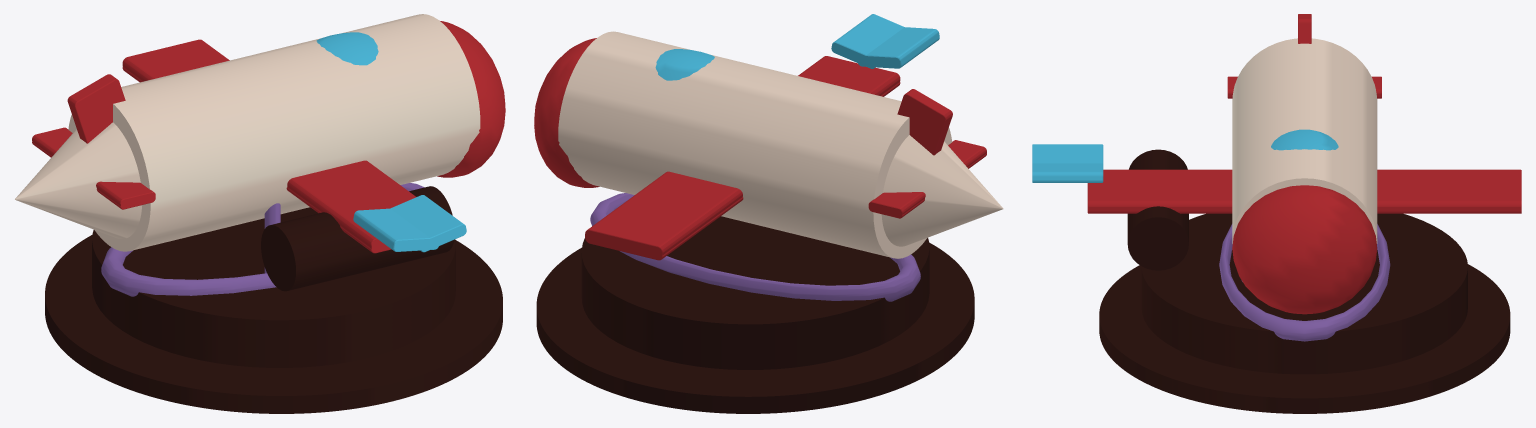
Rendered from 0342_航空航天图鉴_旅行者一号.glb.
3 views of the same model, side by side, from view 1: azimuth 30°, elevation 25°; view 2: azimuth 150°, elevation 25°; view 3: azimuth 270°, elevation 25° (orthographic). The views are drawn at different scales.
Parts seen in each view (by area): view 1: card_0342; view 2: card_0342; view 3: card_0342.
Part boxes in pixels (bbox=[...]): card_0342: bbox=[15, 14, 505, 413]; card_0342: bbox=[534, 14, 1003, 413]; card_0342: bbox=[1032, 14, 1521, 413].
Bounding box in the file's own units: 1.79 × 1 × 1.83.
